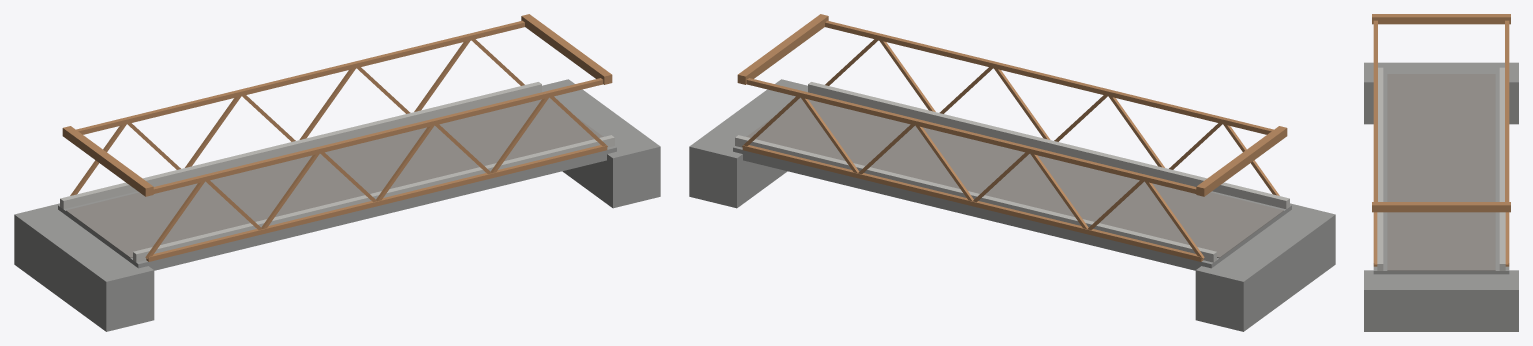
Rendered from CanalBridge.glb.
The picture shows the model from 3 angles, left to right: view 1: azimuth 30°, elevation 25°; view 2: azimuth 150°, elevation 25°; view 3: azimuth 270°, elevation 25°; orthographic projection. The views are drawn at different scales.
Parts seen in each view (by area): view 1: Lane, Abutment.002, Abutment.003, Kerb.001, Deck.001, Kerb, Beam.094, Beam.112, Beam.093, Portal, Portal.001, Beam.095 (+6 smaller); view 2: Lane, Abutment.002, Abutment.003, Kerb, Deck.001, Kerb.001, Beam.112, Beam.094, Beam.111, Portal, Portal.001, Beam.113 (+6 smaller); view 3: Lane, Abutment.003, Abutment.002, Deck.001, Portal.001, Portal, Kerb, Kerb.001, Beam.094, Beam.112, Beam.110, Beam.128.
Part boxes in pixels (bbox=[...]): Lane: bbox=[66, 97, 603, 258]; Abutment.002: bbox=[14, 203, 154, 331]; Abutment.003: bbox=[542, 79, 660, 208]; Kerb.001: bbox=[60, 82, 541, 209]; Deck.001: bbox=[58, 146, 616, 270]; Kerb: bbox=[133, 135, 614, 262]; Beam.094: bbox=[153, 78, 603, 193]; Beam.112: bbox=[76, 20, 524, 134]; Beam.093: bbox=[146, 145, 607, 261]; Portal: bbox=[62, 126, 153, 196]; Portal.001: bbox=[521, 14, 612, 84]; Beam.095: bbox=[145, 181, 204, 259]; Lane: bbox=[746, 97, 1283, 258]; Abutment.002: bbox=[1195, 203, 1335, 331]; Abutment.003: bbox=[689, 79, 807, 208]; Kerb: bbox=[808, 82, 1289, 209]; Deck.001: bbox=[733, 146, 1291, 270]; Kerb.001: bbox=[735, 135, 1216, 262]; Beam.112: bbox=[746, 78, 1196, 193]; Beam.094: bbox=[825, 20, 1273, 134]; Beam.111: bbox=[742, 145, 1203, 261]; Portal: bbox=[1196, 126, 1287, 196]; Portal.001: bbox=[737, 14, 828, 84]; Beam.113: bbox=[1145, 181, 1204, 259]; Lane: bbox=[1387, 74, 1495, 270]; Abutment.003: bbox=[1364, 270, 1518, 331]; Abutment.002: bbox=[1364, 62, 1518, 124]; Deck.001: bbox=[1373, 74, 1509, 274]; Portal.001: bbox=[1372, 202, 1510, 212]; Portal: bbox=[1372, 14, 1510, 24]; Kerb: bbox=[1377, 67, 1383, 270]; Kerb.001: bbox=[1499, 67, 1505, 270]; Beam.094: bbox=[1373, 20, 1377, 201]; Beam.112: bbox=[1505, 20, 1509, 201]; Beam.110: bbox=[1374, 212, 1377, 264]; Beam.128: bbox=[1505, 212, 1508, 264].
Size of the model in its own units: 27.8 by 6.2 by 8.
